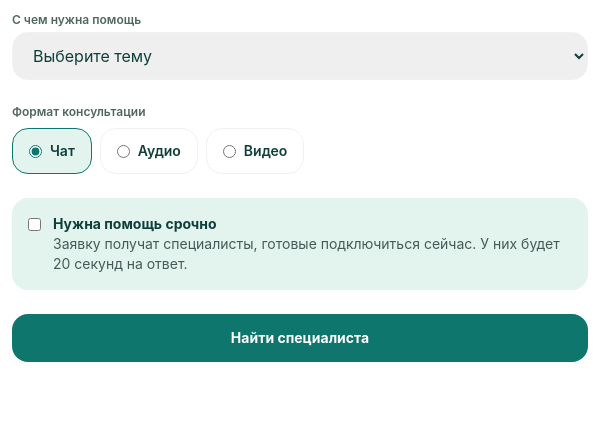
Test: RequestForm › ошибку бэкенда показывает словами
Select "Выгорание" in the dropdown labelled "С чем нужна помощь" at [300, 56], box [12, 32, 588, 80]
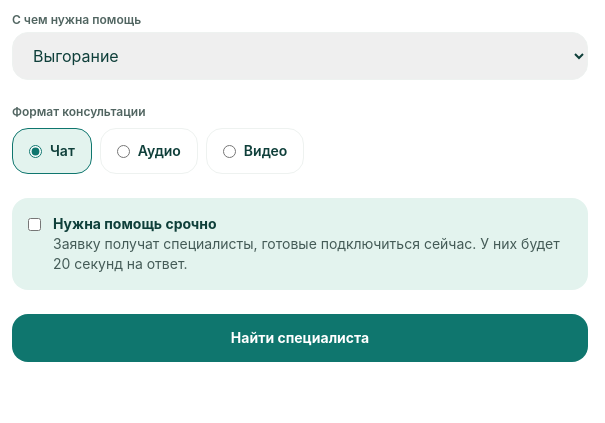
Click the button "Найти специалиста" at [300, 338], box [12, 314, 588, 362]
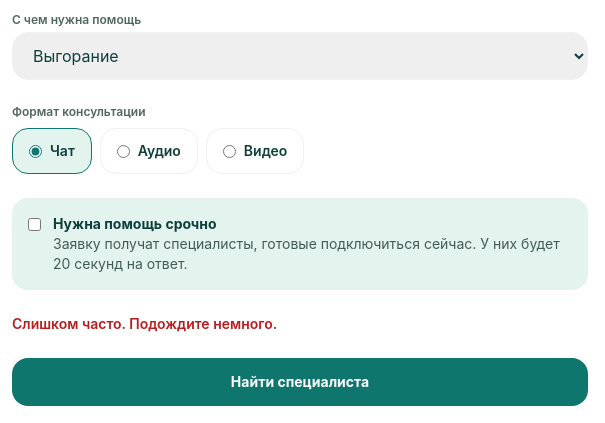
Check: the message shows "Слишком часто", box [12, 315, 277, 332]
